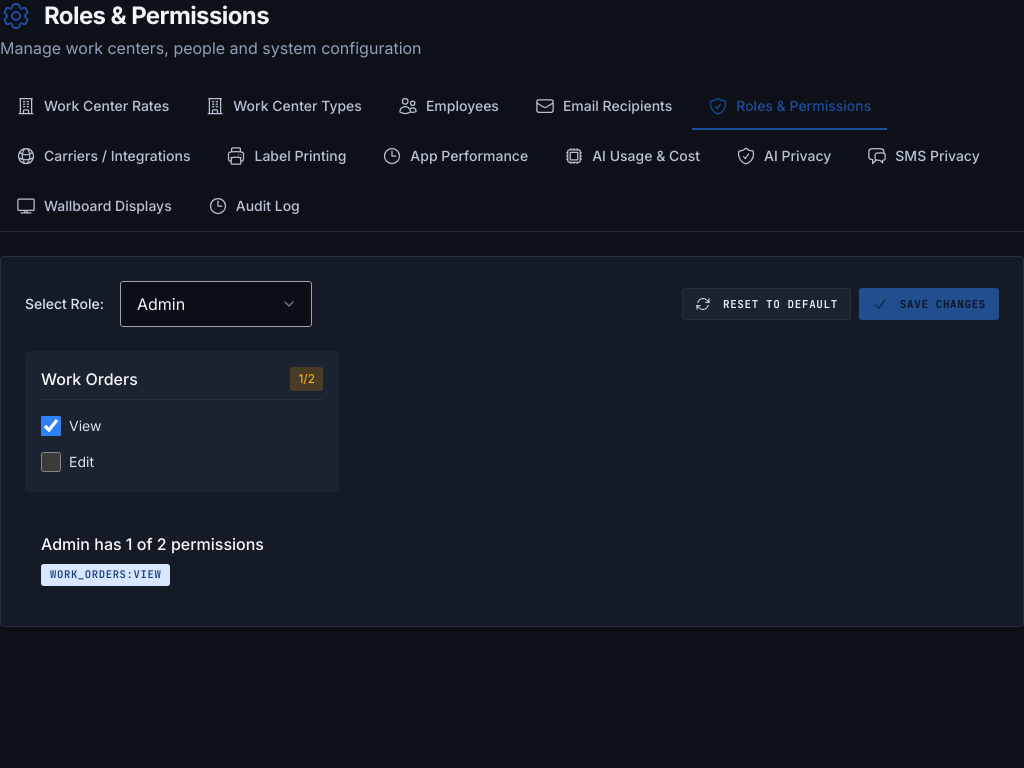
it: AdminSettings reset-role-permissions confirm (warning variant) › opens the warning confirm dialog and resets only on confirm
Click the button "Reset to Default" at (766, 304), box [682,288,851,320]
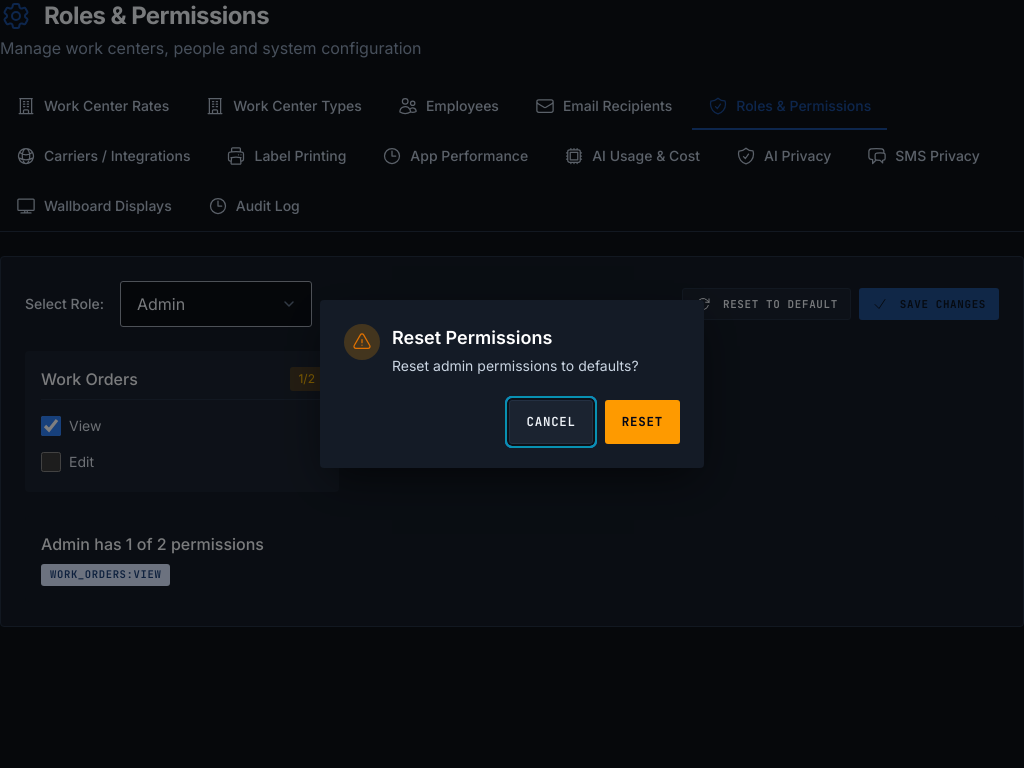
Check: the text "Reset admin permissions to defaults?" is shown, box [392,356,680,376]
Click the button "Reset" at (642, 422), box [605,400,680,444]
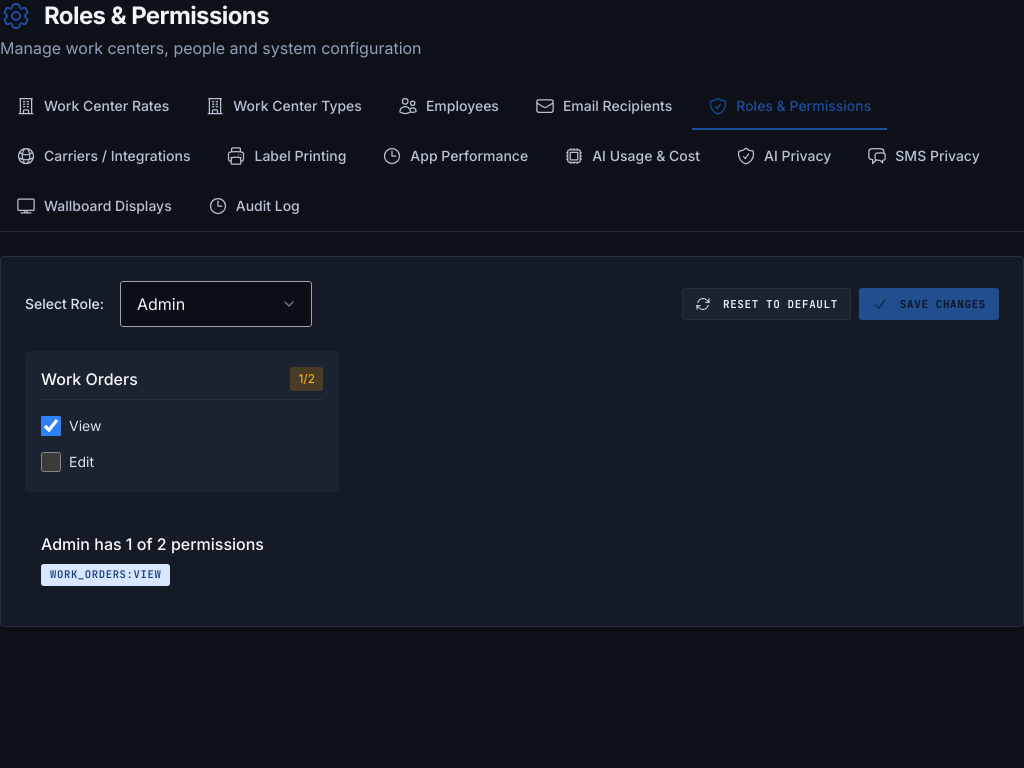
Check: the dialog is gone
